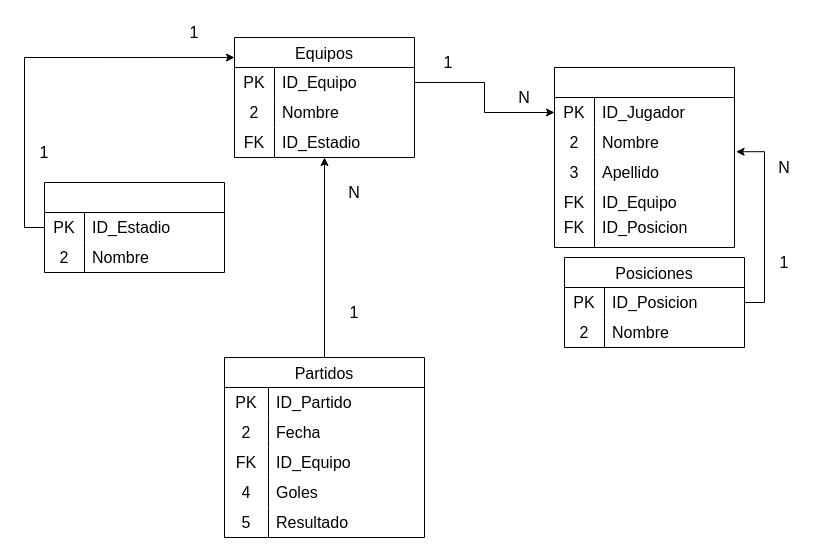
This 822x555 diagram has some shape labels left out. The box of each missing label's shape, as (x1, y1, x2, y2) in pixels:
Estadios: (44, 182, 224, 272)
Jugadores: (554, 66, 734, 248)
